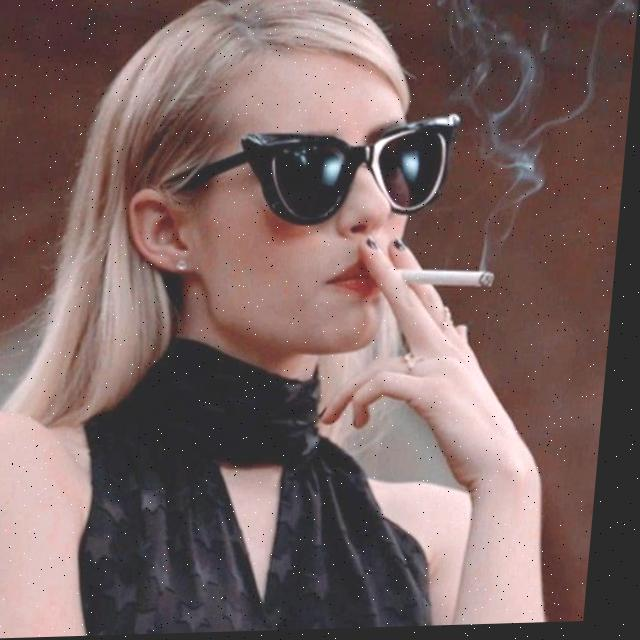cigarette: (393, 273, 502, 291)
